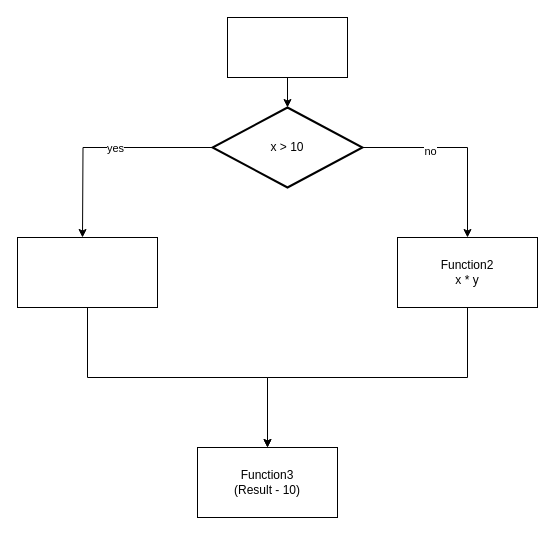
This 555x535 diagram has some shape labels left out. The box of each missing label's shape, as (x1, y1, x2, y2) in pixels:
Function1 (x+y): (16, 236, 158, 308)
input: (226, 16, 348, 78)
